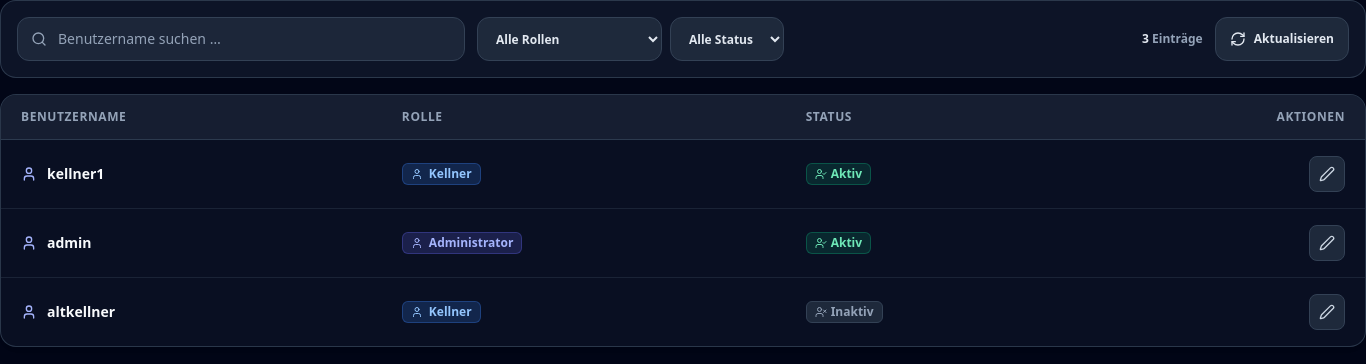
Test case: AdminUsersView › rendert Benutzer mit Rollen- und Status-Badges
Expected: the text "kellner1" is shown, [47,164,104,184]
Expected: the text "admin" is shown, [47,233,92,253]
Step 1. Select "Administrator" in the 1st dropdown named "Rolle filtern" → (570, 39), box [477,17,662,61]
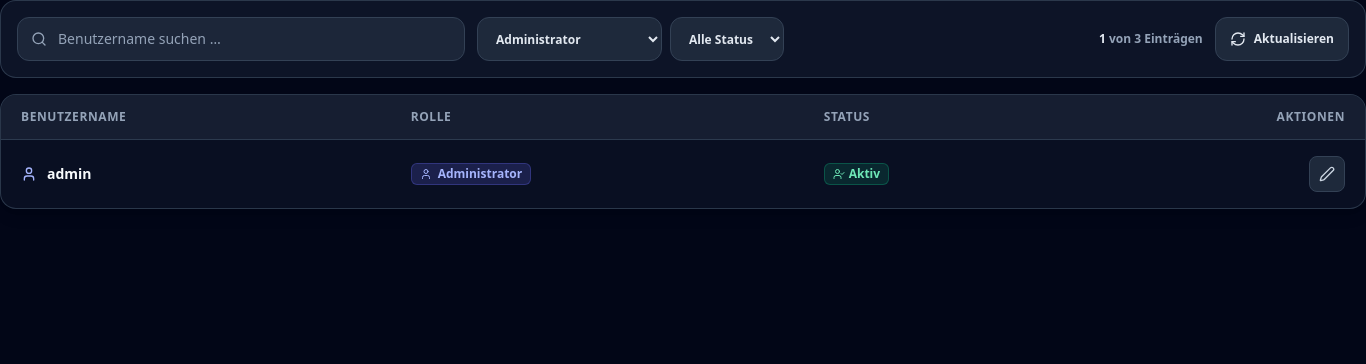
Expected: the text "admin" is shown, [47,164,92,184]
Now the text "kellner1" is gone
